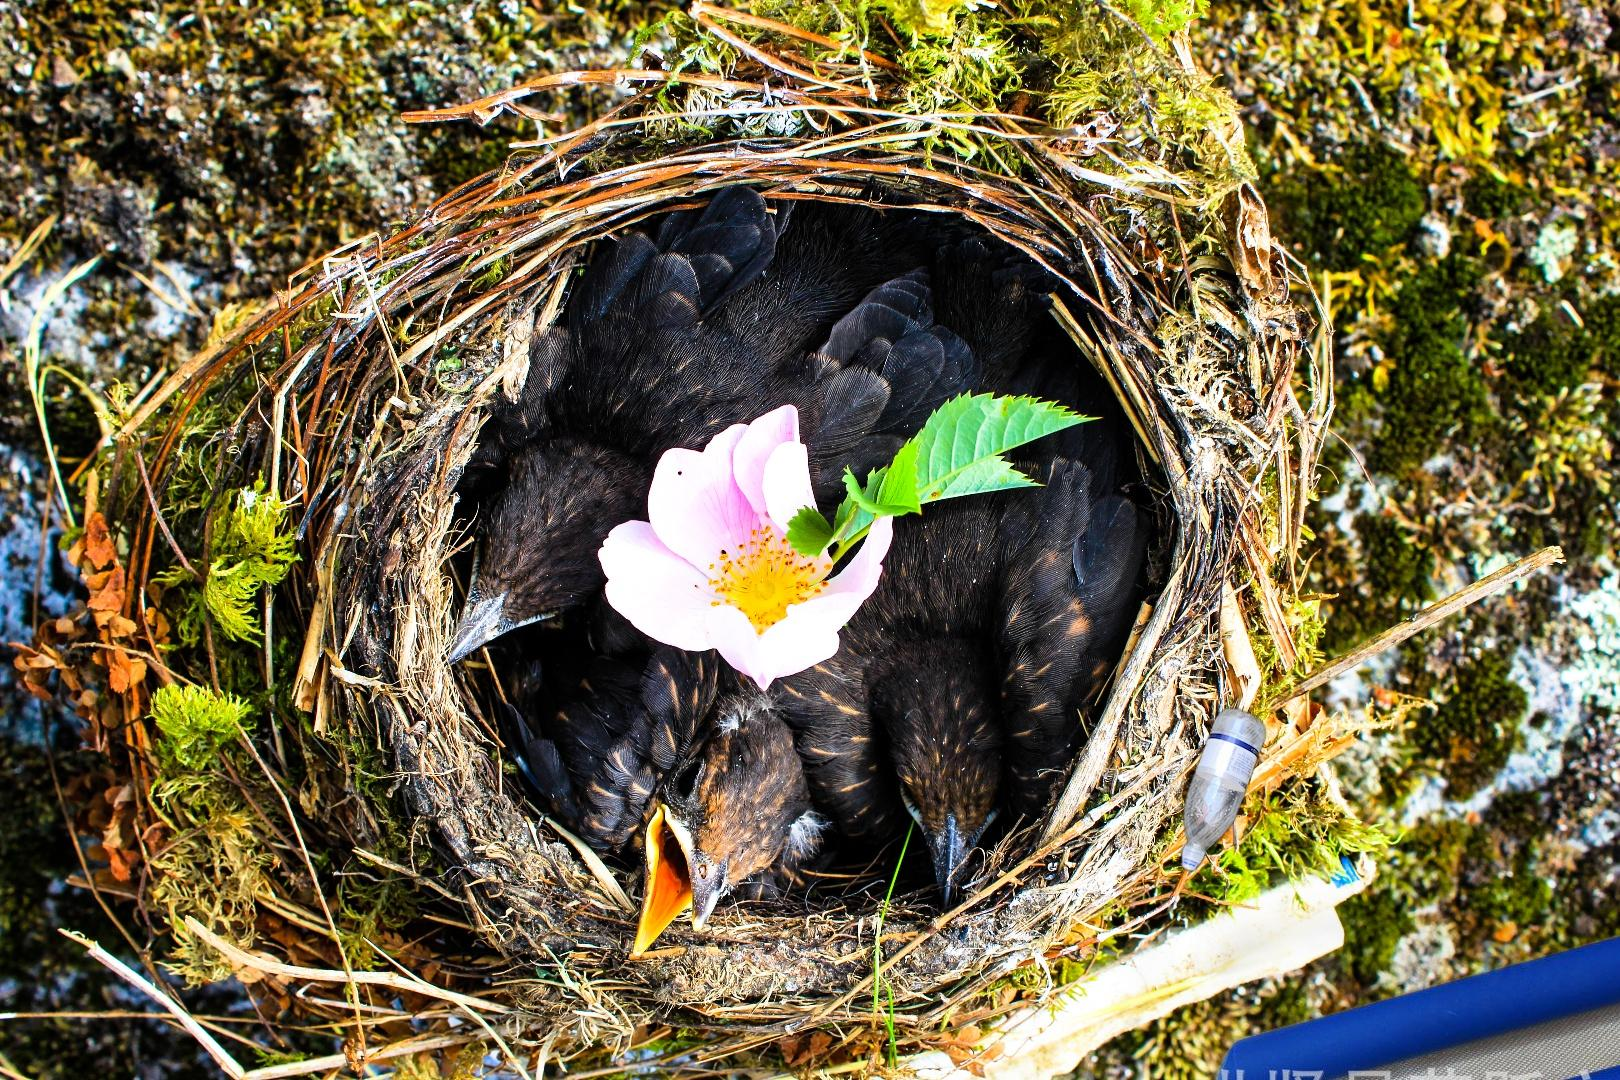penholder: (1110, 708, 1620, 1080)
plastic-bottles: (1176, 702, 1270, 877)
